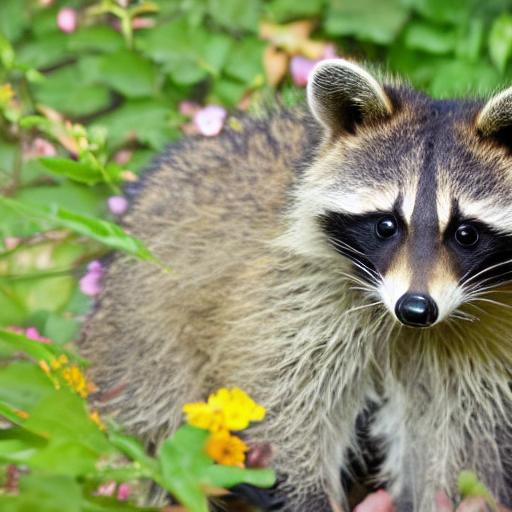raccoon: (68, 50, 512, 512)
